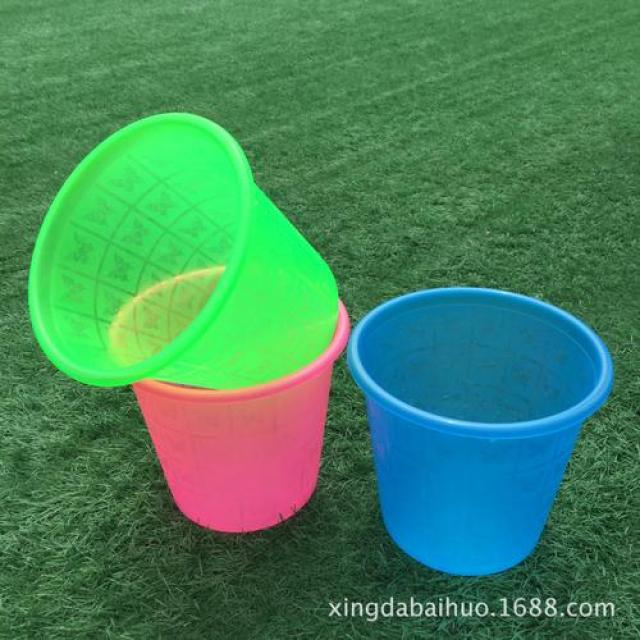dustbin: (24, 106, 342, 392), (347, 282, 616, 582), (106, 261, 350, 534)
